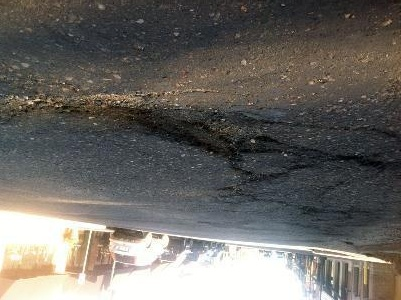pothole: (77, 90, 273, 163), (0, 92, 62, 118)
